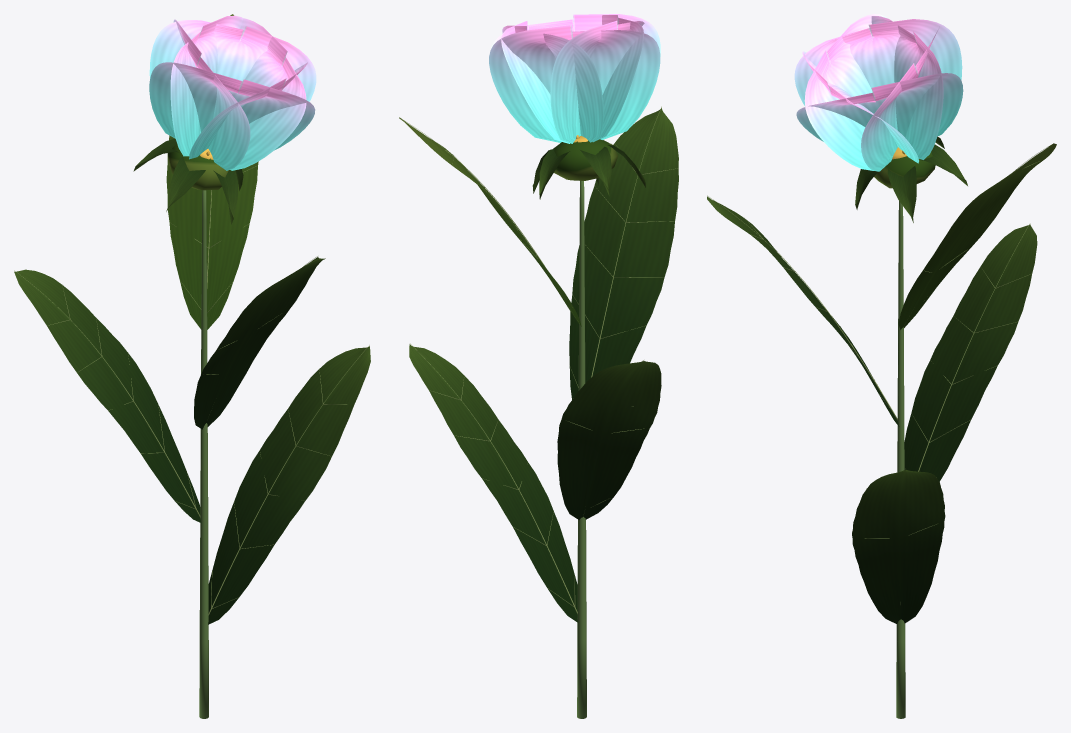
The model's file is tulip-dream-10.glb.
3 renders of one model, left to right at view 1: azimuth 30°, elevation 25°; view 2: azimuth 150°, elevation 25°; view 3: azimuth 270°, elevation 25°, orthographic.
Visible parts, largest first — view 1: tulip_dream_stage_10_leaf_veins.020, tulip_dream_stage_10_tulip_petal.020, tulip_dream_stage_10_young_leaf.020, tulip_dream_stage_10_stem_fibres.020, tulip_dream_stage_10_raised_midveins.020; view 2: tulip_dream_stage_10_leaf_veins.020, tulip_dream_stage_10_tulip_petal.020, tulip_dream_stage_10_stem_fibres.020, tulip_dream_stage_10_young_leaf.020, tulip_dream_stage_10_raised_midveins.020; view 3: tulip_dream_stage_10_leaf_veins.020, tulip_dream_stage_10_tulip_petal.020, tulip_dream_stage_10_young_leaf.020, tulip_dream_stage_10_stem_fibres.020, tulip_dream_stage_10_raised_midveins.020.
Part boxes in pixels (left/top/right/bottom): tulip_dream_stage_10_leaf_veins.020: left=14, top=139, right=370, bottom=624; tulip_dream_stage_10_tulip_petal.020: left=149, top=15, right=316, bottom=170; tulip_dream_stage_10_young_leaf.020: left=166, top=14, right=258, bottom=329; tulip_dream_stage_10_stem_fibres.020: left=199, top=190, right=208, bottom=718; tulip_dream_stage_10_raised_midveins.020: left=14, top=15, right=369, bottom=615; tulip_dream_stage_10_leaf_veins.020: left=409, top=107, right=678, bottom=622; tulip_dream_stage_10_tulip_petal.020: left=489, top=14, right=660, bottom=143; tulip_dream_stage_10_stem_fibres.020: left=577, top=181, right=586, bottom=718; tulip_dream_stage_10_young_leaf.020: left=399, top=117, right=617, bottom=326; tulip_dream_stage_10_raised_midveins.020: left=399, top=106, right=678, bottom=613; tulip_dream_stage_10_leaf_veins.020: left=707, top=136, right=1037, bottom=623; tulip_dream_stage_10_tulip_petal.020: left=794, top=14, right=963, bottom=171; tulip_dream_stage_10_young_leaf.020: left=874, top=143, right=1056, bottom=329; tulip_dream_stage_10_stem_fibres.020: left=896, top=201, right=905, bottom=718; tulip_dream_stage_10_raised_midveins.020: left=707, top=144, right=1051, bottom=604.
Size of the model in its own units: 0.279 by 0.6177 by 0.2837.
6 materials, 3 textured.
